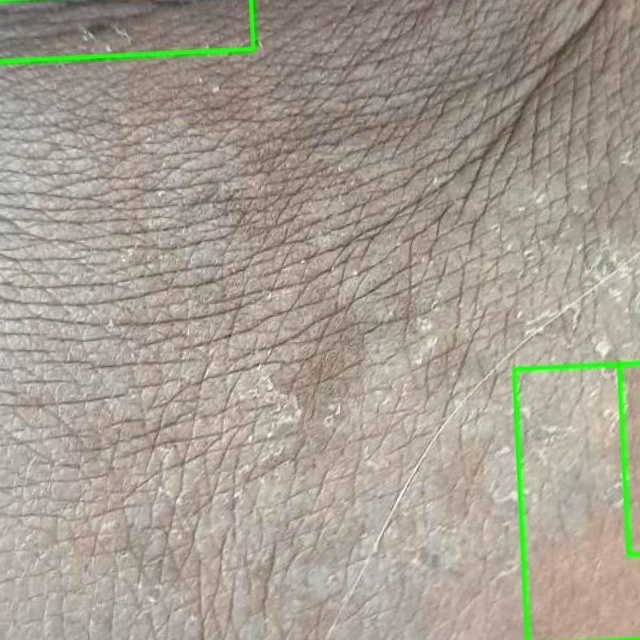Eczema: (513, 364, 639, 639), (0, 0, 253, 60)
